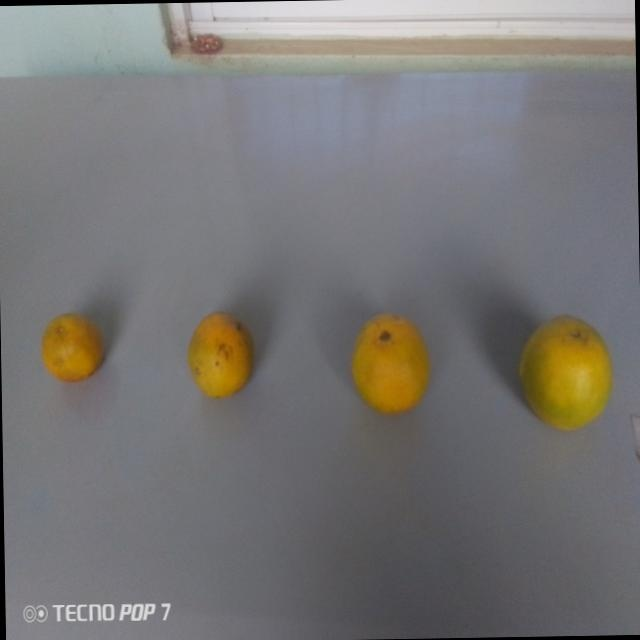agrume: (515, 301, 617, 439), (347, 304, 433, 424), (182, 305, 260, 412), (39, 305, 108, 391)
